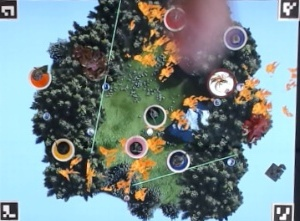blue: (166, 147, 192, 172)
green: (142, 102, 170, 128)
orange: (26, 65, 52, 90)
pink: (123, 136, 151, 158)
red: (161, 5, 191, 32)
violet: (223, 25, 250, 50)
yellow: (49, 136, 75, 163)
